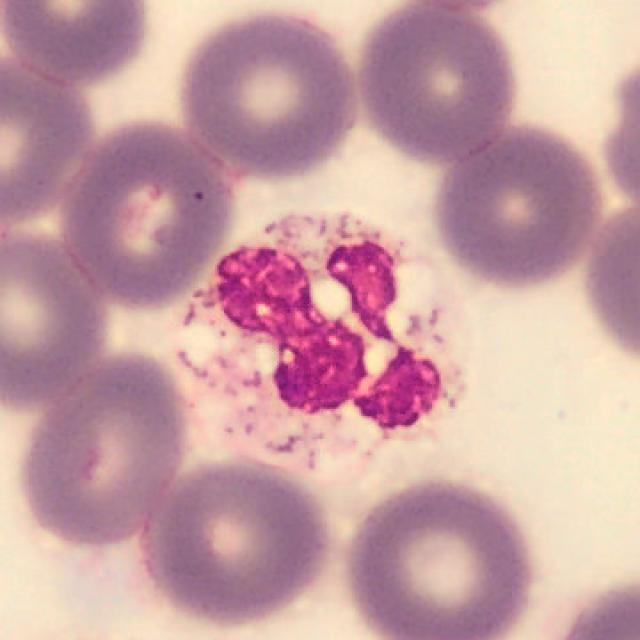Neutrofilo segmentado: (174, 208, 475, 482)
